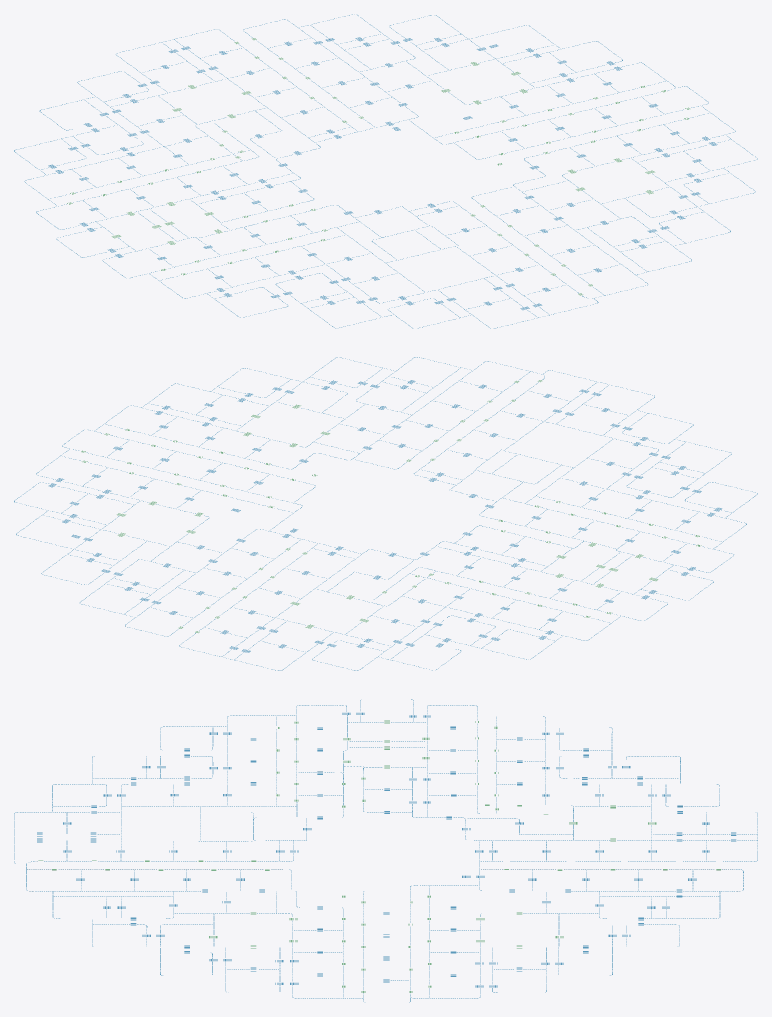
Rendered from D2_MARKINGS.fbx.
3 views of the same model, one above another, from view 1: azimuth 30°, elevation 25°; view 2: azimuth 150°, elevation 25°; view 3: azimuth 270°, elevation 25° (orthographic).
Size of the model in its own units: 231299 by 3.73 by 239622.
